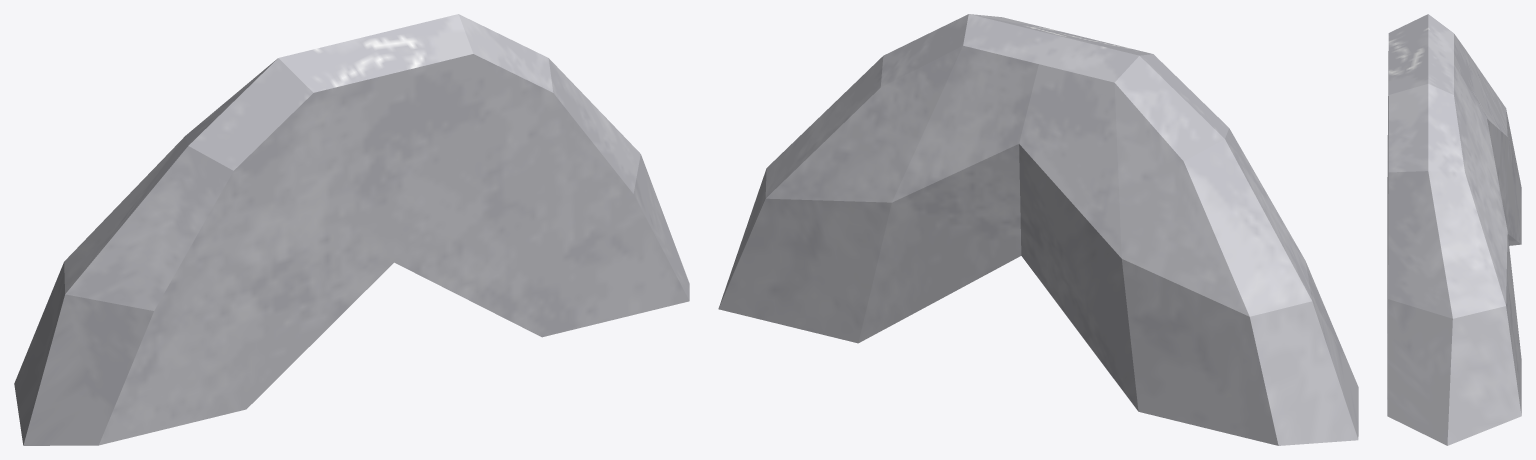
File: mustache.fbx
The picture shows the model from 3 angles, left to right: view 1: azimuth 30°, elevation 25°; view 2: azimuth 150°, elevation 25°; view 3: azimuth 270°, elevation 25°; orthographic projection. The views are drawn at different scales.
Visible parts, largest first — view 1: Cube; view 2: Cube; view 3: Cube.
Part boxes in pixels (x1,y1,x2,y2): Cube: [14, 14, 689, 445]; Cube: [718, 14, 1358, 445]; Cube: [1387, 14, 1521, 445].
Bounding box in the file's own units: 73.56 × 35.62 × 16.16.
Materials: 1 (1 with a texture image).
